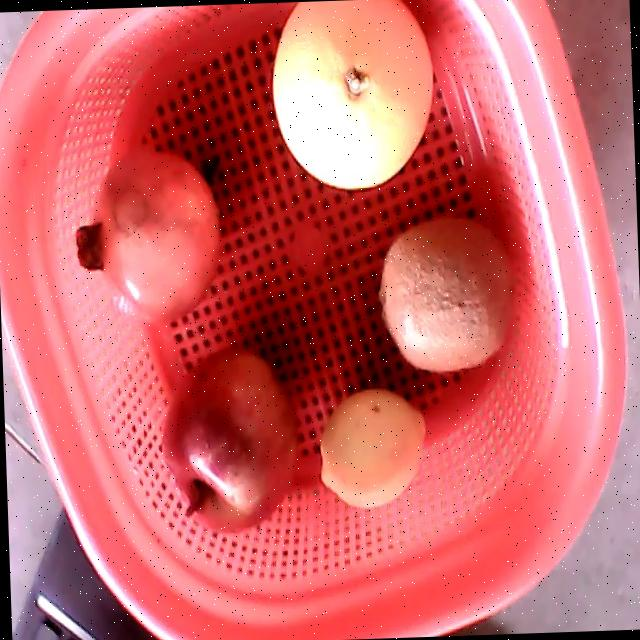apple: (161, 348, 297, 531)
kiwi: (378, 217, 514, 372)
lemon: (318, 389, 425, 509)
orange: (271, 0, 432, 189)
pomegranate: (73, 152, 221, 328)
